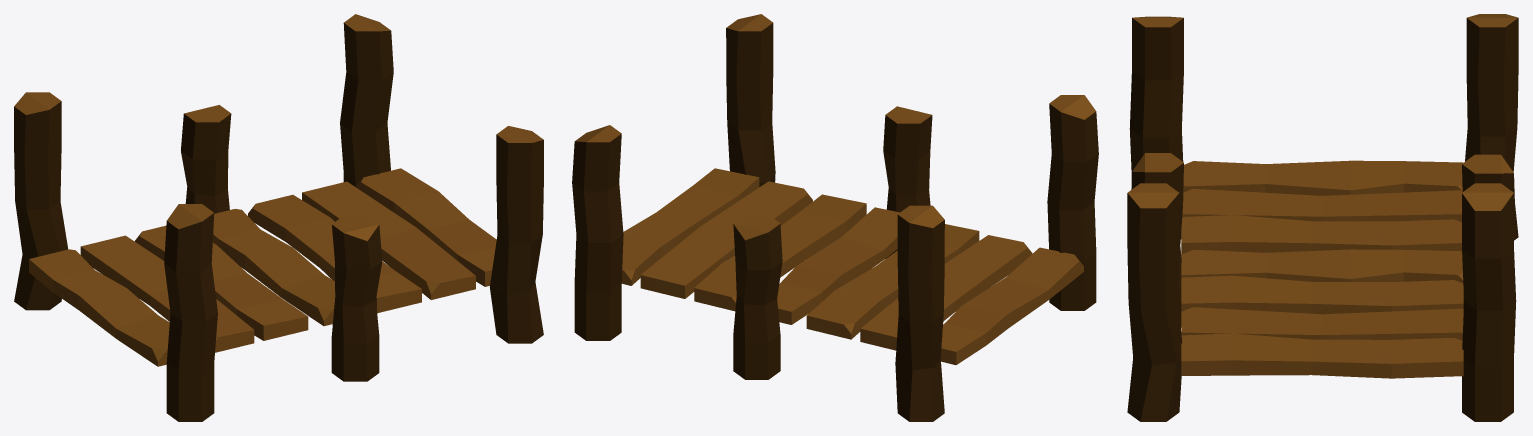
Rendered from Marina.fbx.
3 renders of one model, left to right at view 1: azimuth 30°, elevation 25°; view 2: azimuth 150°, elevation 25°; view 3: azimuth 270°, elevation 25°, orthographic. The views are drawn at different scales.
Visible parts, largest first — view 1: Marina; view 2: Marina; view 3: Marina.
Boxes of the visible parts, x1,y1,x2,y2 form: Marina: (14,14,543,421); Marina: (572,14,1098,421); Marina: (1127,14,1518,421).
Bounding box in the file's own units: 2.55 × 1.29 × 2.07.
